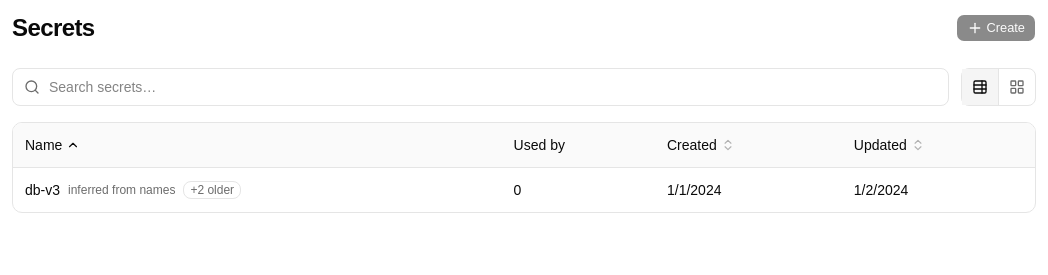
Test: SecretList › keeps a group open while its removed head is replaced
The width and height of the screenshot is (1048, 275).
Click the button "+2 older": (212, 190) [183,181,241,199]
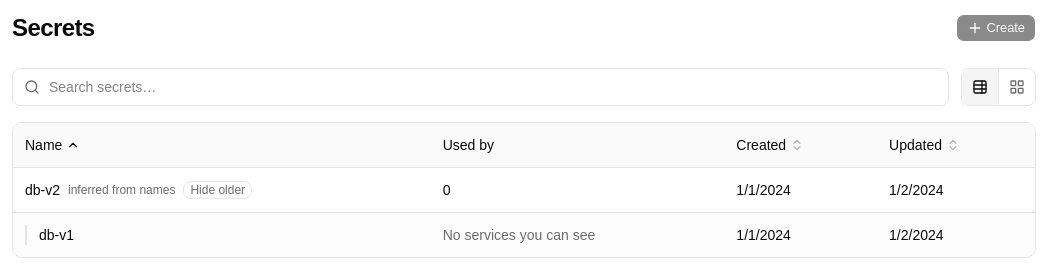
Result: the text "db-v1" is shown at [25,225,74,245]
Result: the button "Hide older" is shown at [183,181,252,199]
